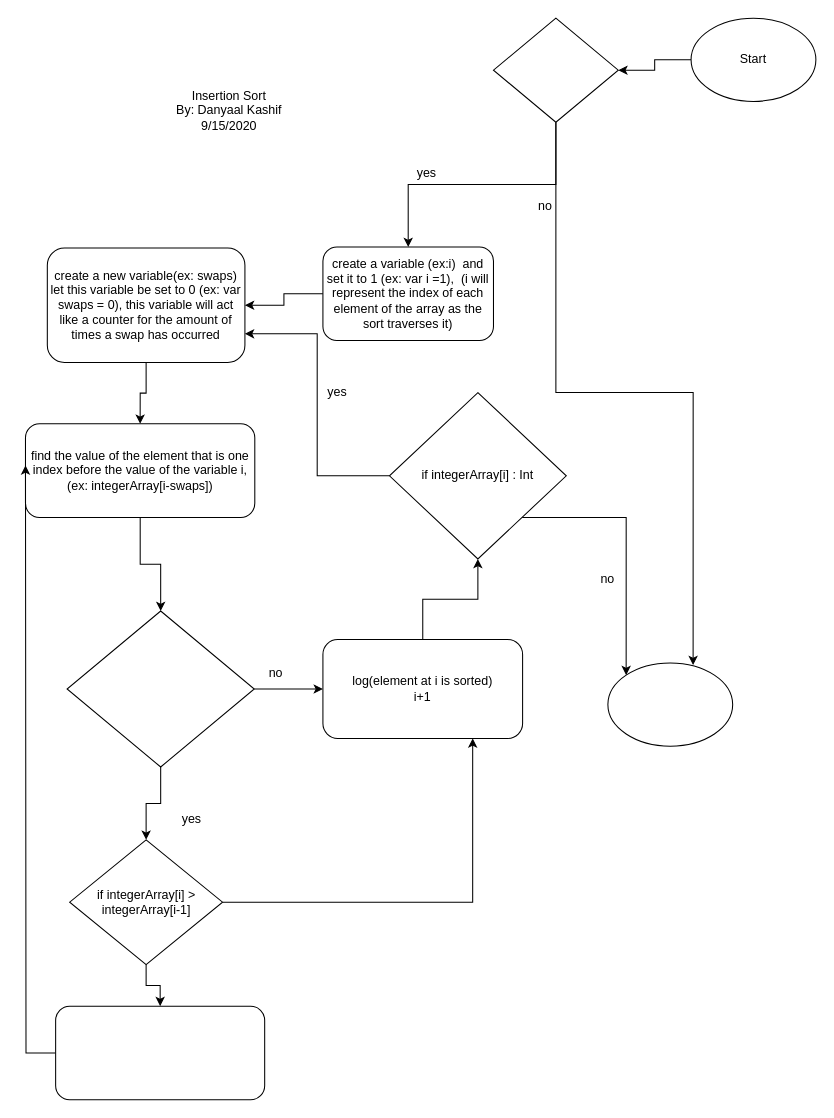
This 834x1118 diagram has some shape labels left out. Here are the shapes that lost their labels. From the top down, the centre of each, then its label:
At point (555, 69): "If arr.count > 2".
At point (160, 688): "if integerArray[i-swaps] : Int".
At point (670, 704): "End :(".
At point (160, 1052): "Swap integerAraay[i-1] with integerArray[i]".
